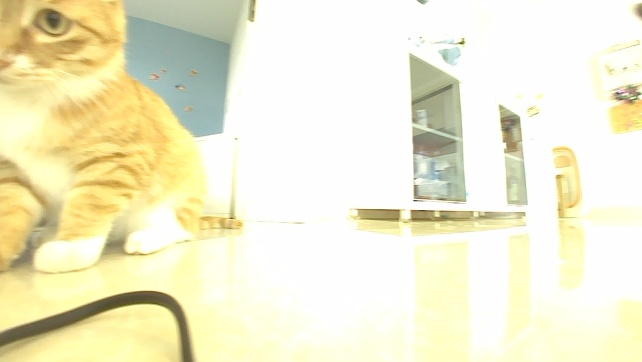cat: (0, 0, 242, 273)
wire: (0, 289, 197, 361)
